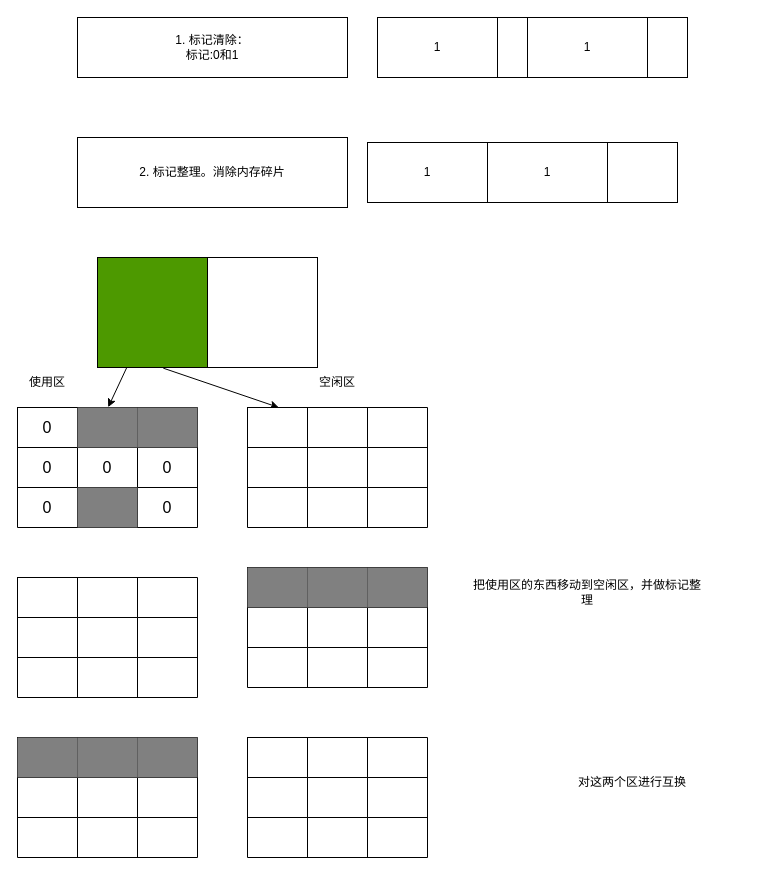
The diagram is 765 pixels wide and 875 high, and some of its shapes have lost their labels. Here are the shapes that lost their labels. From the top down, the centre of each, then its label:
At point 152,312: "新生代".
At point 262,312: "老生代".
